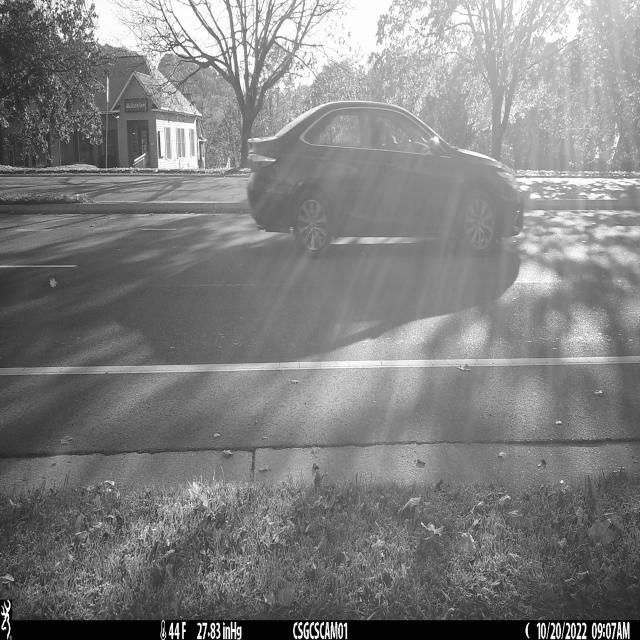Sedan: (245, 101, 523, 252)
